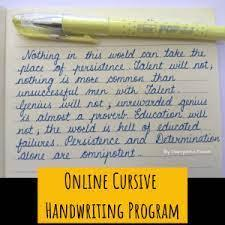text: (15, 94, 208, 118), (15, 132, 220, 154), (16, 58, 213, 77), (20, 46, 206, 66), (15, 120, 200, 140), (18, 106, 207, 125), (15, 71, 176, 92), (15, 83, 176, 102), (44, 200, 180, 221), (16, 146, 143, 167), (64, 171, 157, 192)
